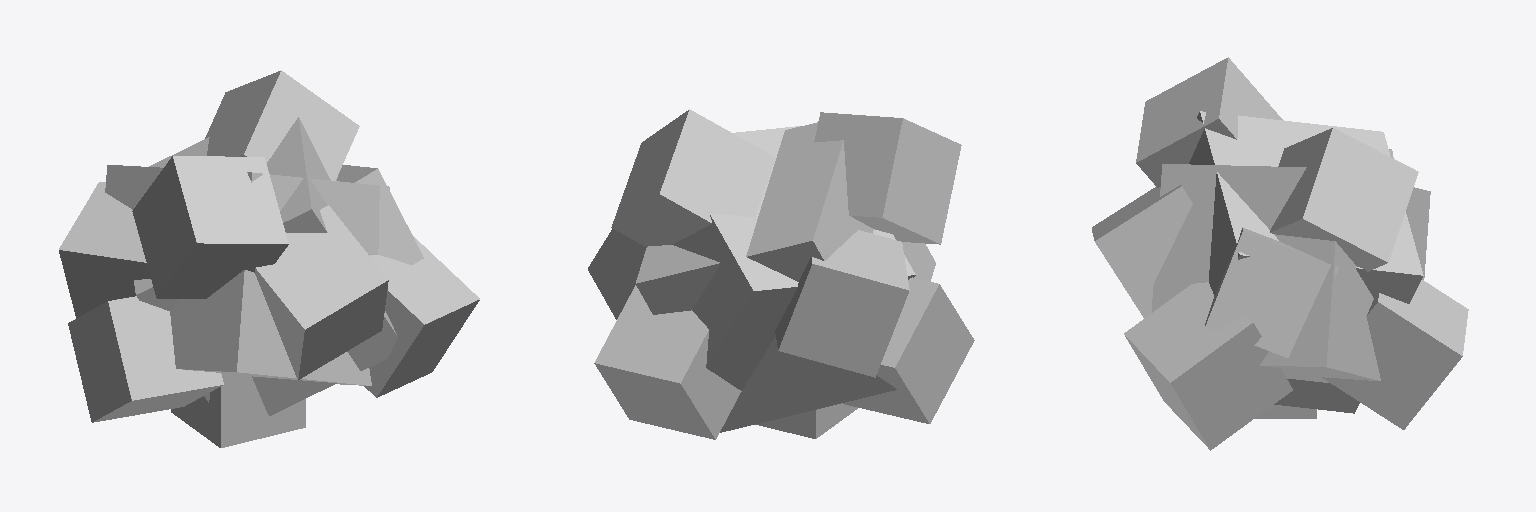
The model's file is Trash.OBJ.
3 renders of one model, left to right at view 1: azimuth 30°, elevation 25°; view 2: azimuth 150°, elevation 25°; view 3: azimuth 270°, elevation 25°, orthographic.
Parts seen in each view (by area): view 1: Group24552; view 2: Group24552; view 3: Group24552.
Part boxes in pixels (x1,y1,x2,y2): Group24552: (59, 70, 479, 447); Group24552: (588, 109, 974, 439); Group24552: (1092, 57, 1468, 450).
Size of the model in its own units: 1.58 by 1.37 by 1.52.